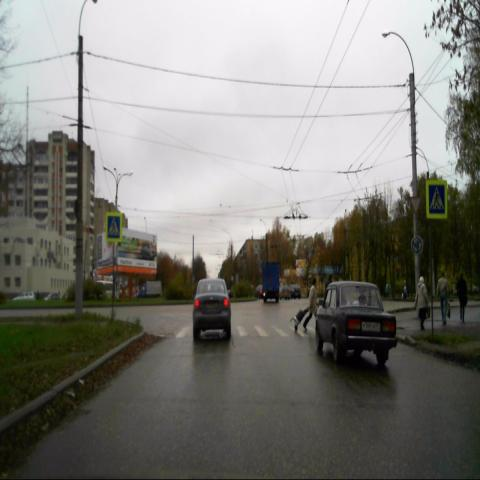4_3: (411, 235, 423, 255)
